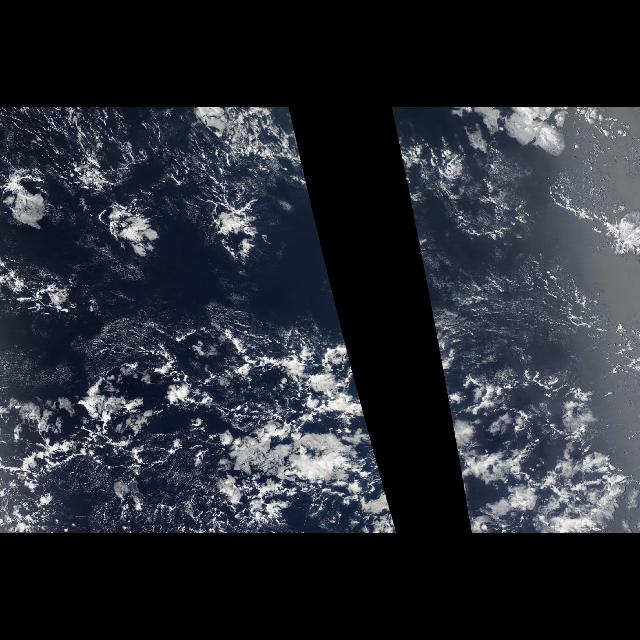Flower: (7, 152, 282, 274)
